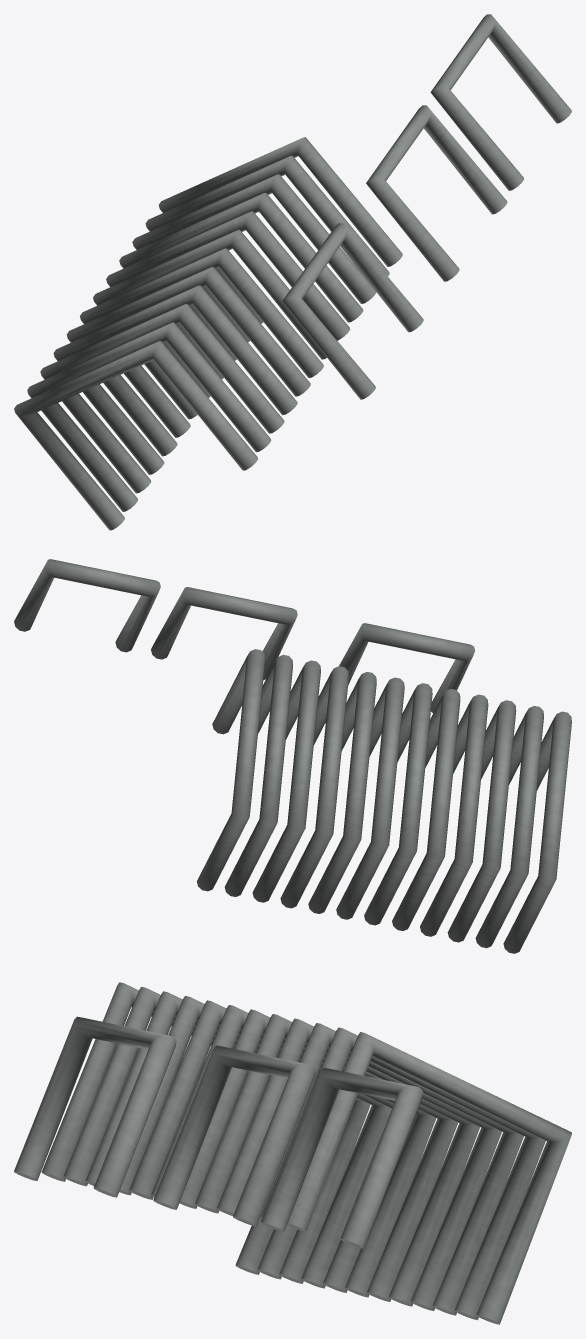
3 renders of one model, top to bottom at view 1: azimuth 30°, elevation 25°; view 2: azimuth 150°, elevation 25°; view 3: azimuth 270°, elevation 25°, orthographic. The views are drawn at different scales.
Parts seen in each view (by area): view 1: Collated U-shaped staple; view 2: Collated U-shaped staple; view 3: Collated U-shaped staple.
Boxes of the visible parts, x1,y1,x2,y2 form: Collated U-shaped staple: [14, 14, 571, 530]; Collated U-shaped staple: [14, 559, 571, 953]; Collated U-shaped staple: [14, 982, 571, 1324].
Bounding box in the file's own units: 1.16 × 0.7047 × 0.7621.
1 material, 1 textured.
